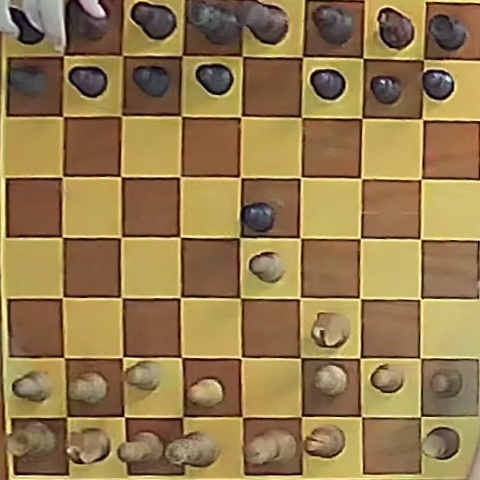black-bishop: (131, 2, 177, 41), (312, 5, 355, 46)
black-king: (236, 1, 288, 45)
black-knight: (377, 7, 415, 50)
black-pawn: (132, 65, 171, 97), (69, 66, 107, 98), (195, 64, 233, 95), (9, 66, 47, 97), (310, 69, 346, 100), (241, 202, 276, 232), (421, 69, 454, 100), (370, 75, 401, 104)
black-queen: (187, 1, 242, 45)
black-rook: (427, 13, 468, 51)
white-bishop: (119, 432, 165, 463), (304, 425, 345, 458)
white-king: (245, 429, 298, 465)
white-knight: (66, 427, 110, 463), (311, 313, 349, 348)
white-pawn: (68, 372, 108, 405), (12, 370, 52, 402), (248, 253, 285, 284), (313, 364, 348, 396), (126, 360, 160, 391), (187, 378, 223, 407), (370, 364, 404, 394), (430, 369, 463, 398)
white-queen: (162, 431, 218, 467)
white-rook: (7, 421, 57, 458), (421, 427, 458, 459)
